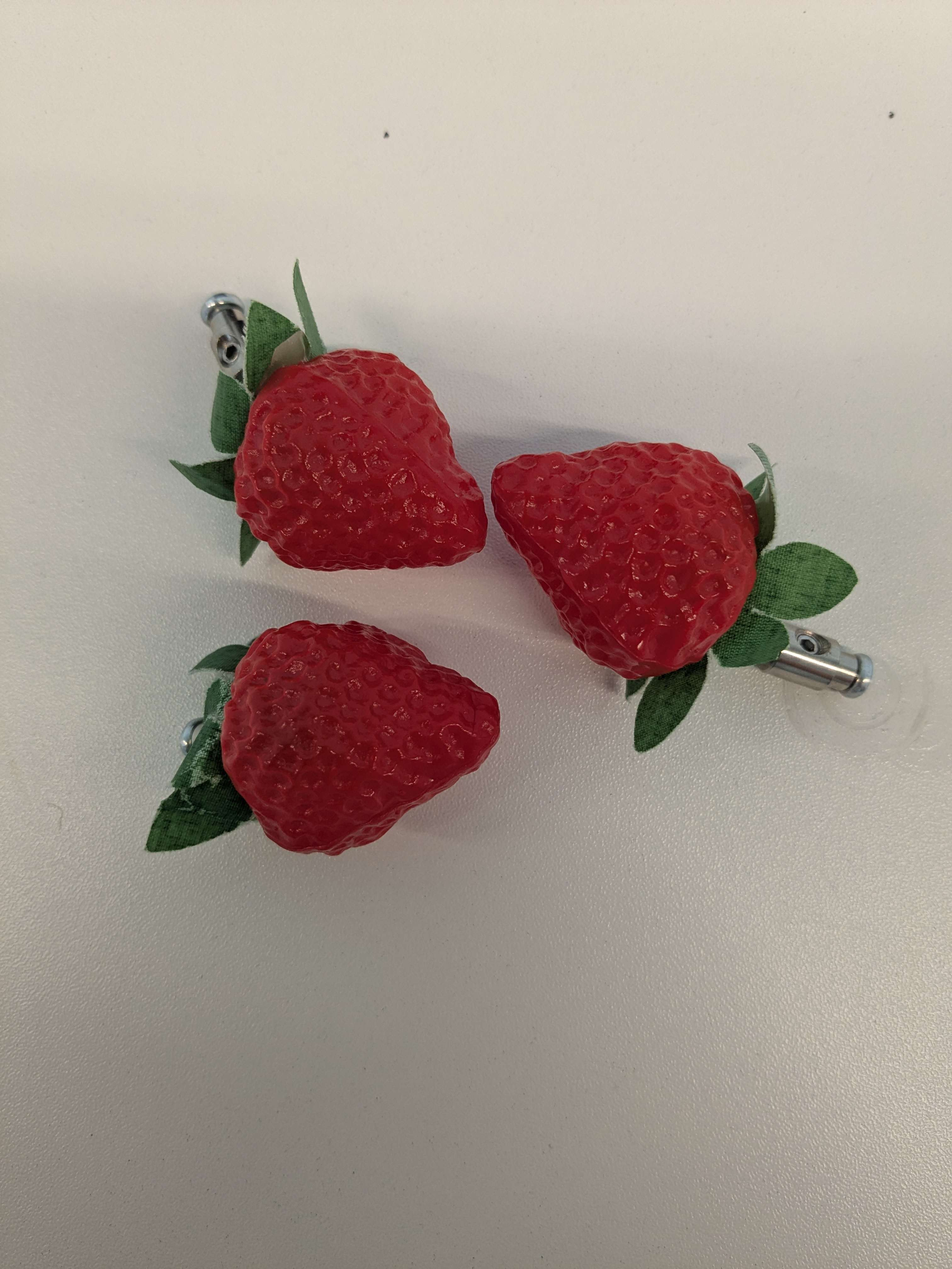Strawberry: (213, 615, 506, 860), (489, 433, 761, 684), (222, 343, 495, 578)
